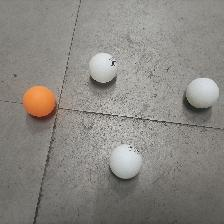WhiteBall: (108, 143, 143, 179), (184, 76, 219, 109), (88, 51, 118, 84)
YellowBall: (22, 85, 55, 117)
